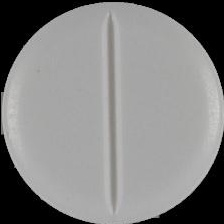43063-644: (0, 0, 224, 224)
